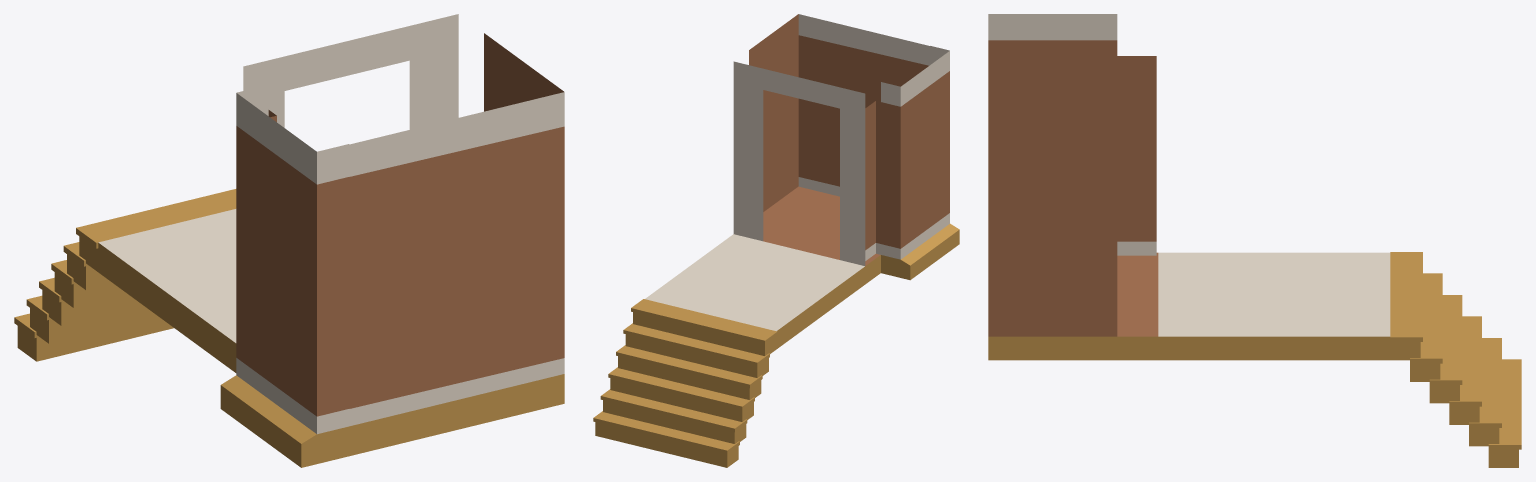
Rendered from ReplaceStairs.glb.
The picture shows the model from 3 angles, left to right: view 1: azimuth 30°, elevation 25°; view 2: azimuth 150°, elevation 25°; view 3: azimuth 270°, elevation 25°; orthographic projection. The views are drawn at different scales.
Parts seen in each view (by area): view 1: Cube.006; view 2: Cube.006; view 3: Cube.006.
Part boxes in pixels (left/top/right/bottom): Cube.006: left=14, top=14, right=564, bottom=467; Cube.006: left=593, top=14, right=959, bottom=467; Cube.006: left=988, top=14, right=1521, bottom=467.
Bounding box in the file's own units: 2.72 × 4.38 × 5.93.
1 material, 1 textured.
